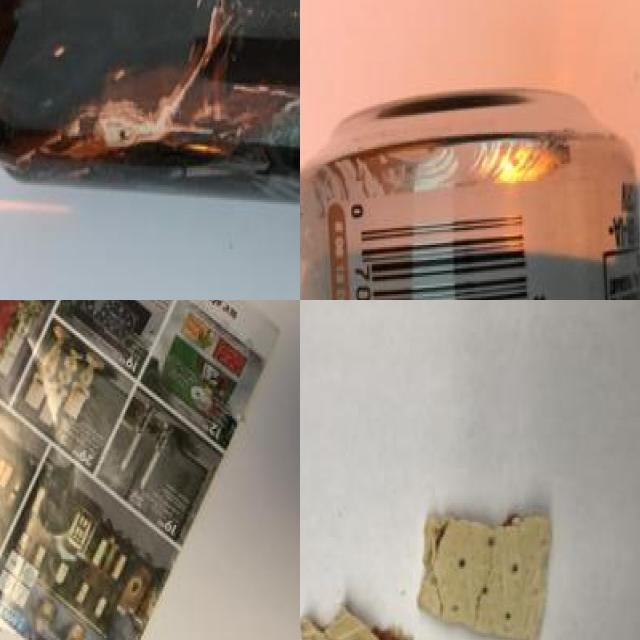compost: (300, 492, 567, 640)
paper: (0, 300, 264, 640)
plastic: (300, 93, 640, 300), (0, 0, 300, 224)
